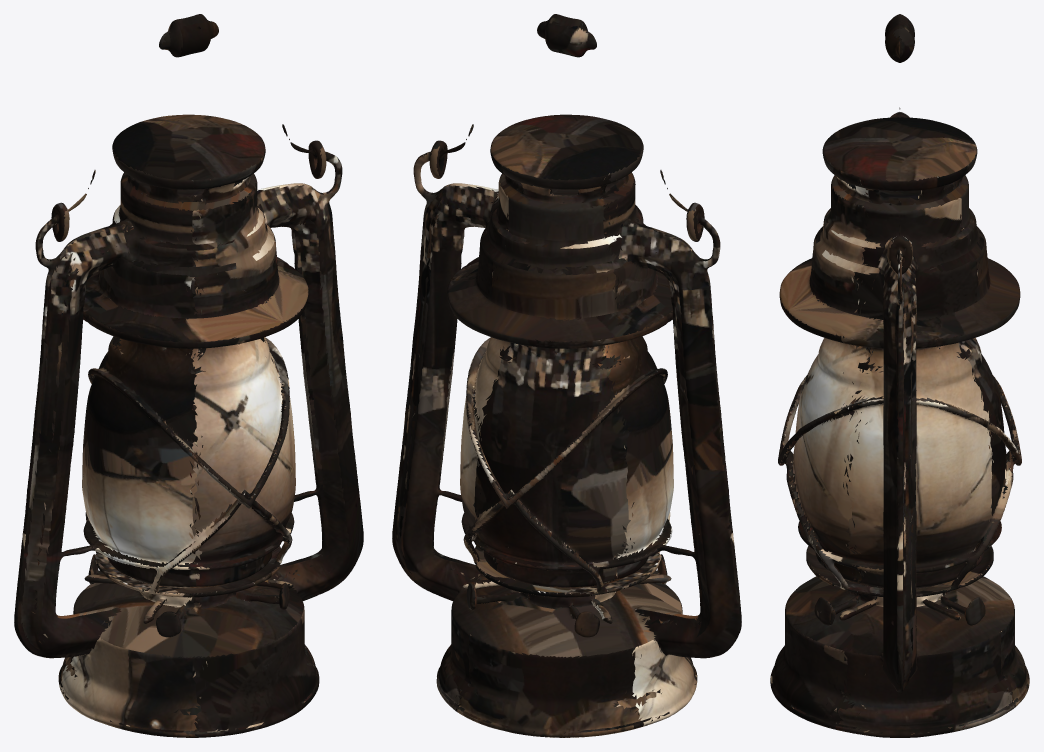
Rendered from lantern.glb.
The picture shows the model from 3 angles, left to right: view 1: azimuth 30°, elevation 25°; view 2: azimuth 150°, elevation 25°; view 3: azimuth 270°, elevation 25°; orthographic projection.
Visible parts, largest first — view 1: Node #0; view 2: Node #0; view 3: Node #0.
Part boxes in pixels (x1,y1,x2,y2): Node #0: (14,14,363,737); Node #0: (392,14,741,737); Node #0: (770,14,1029,737).
Bounding box in the file's own units: 1.09 × 2 × 0.7068.
Materials: 1 (1 with a texture image).
